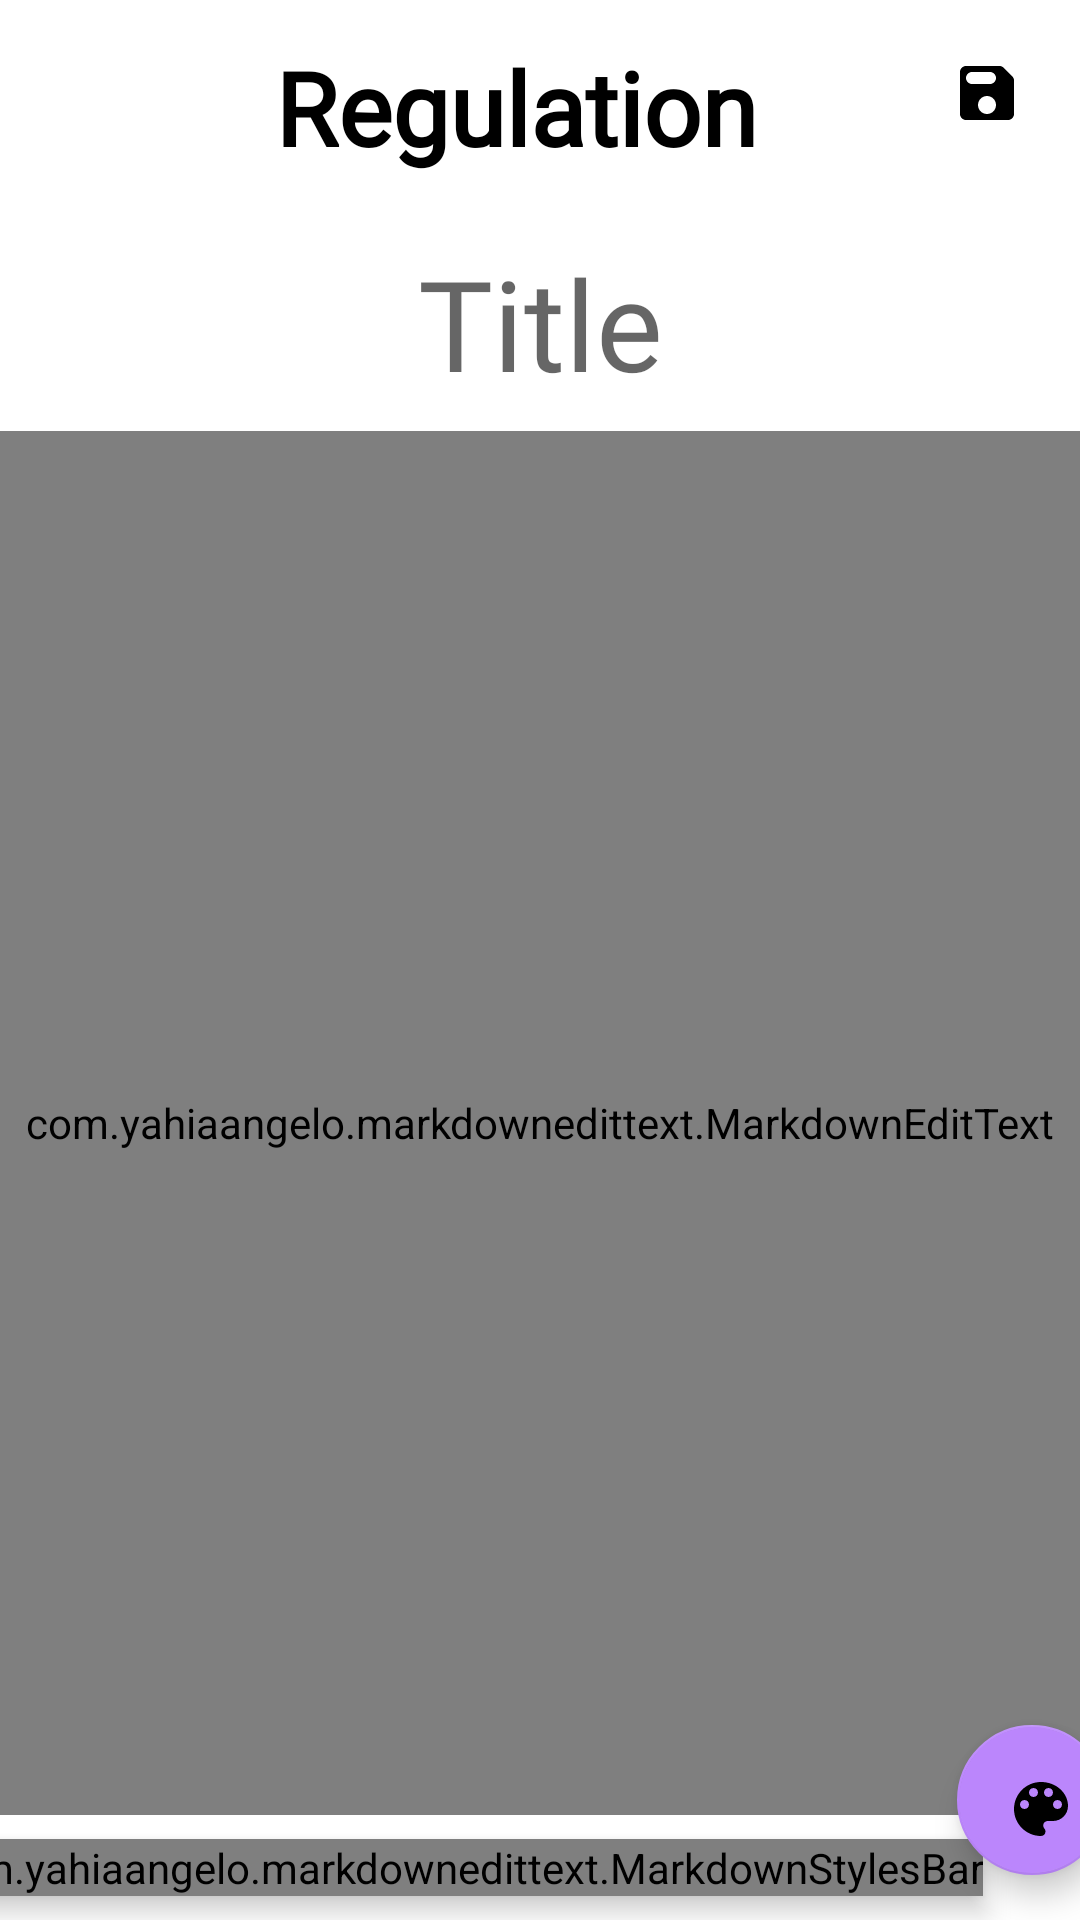

Icons on this 1080px x 1920px Android screen, each with the point to tap as (x=x, y=y):
save: (x=987, y=93)
